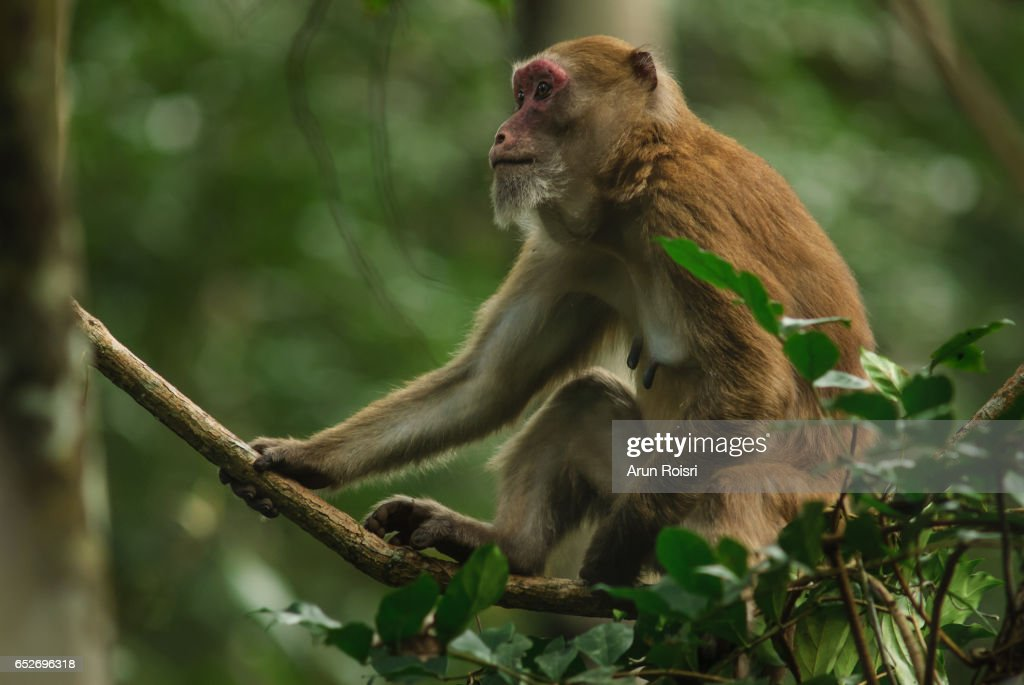monkey: (220, 26, 922, 630)
